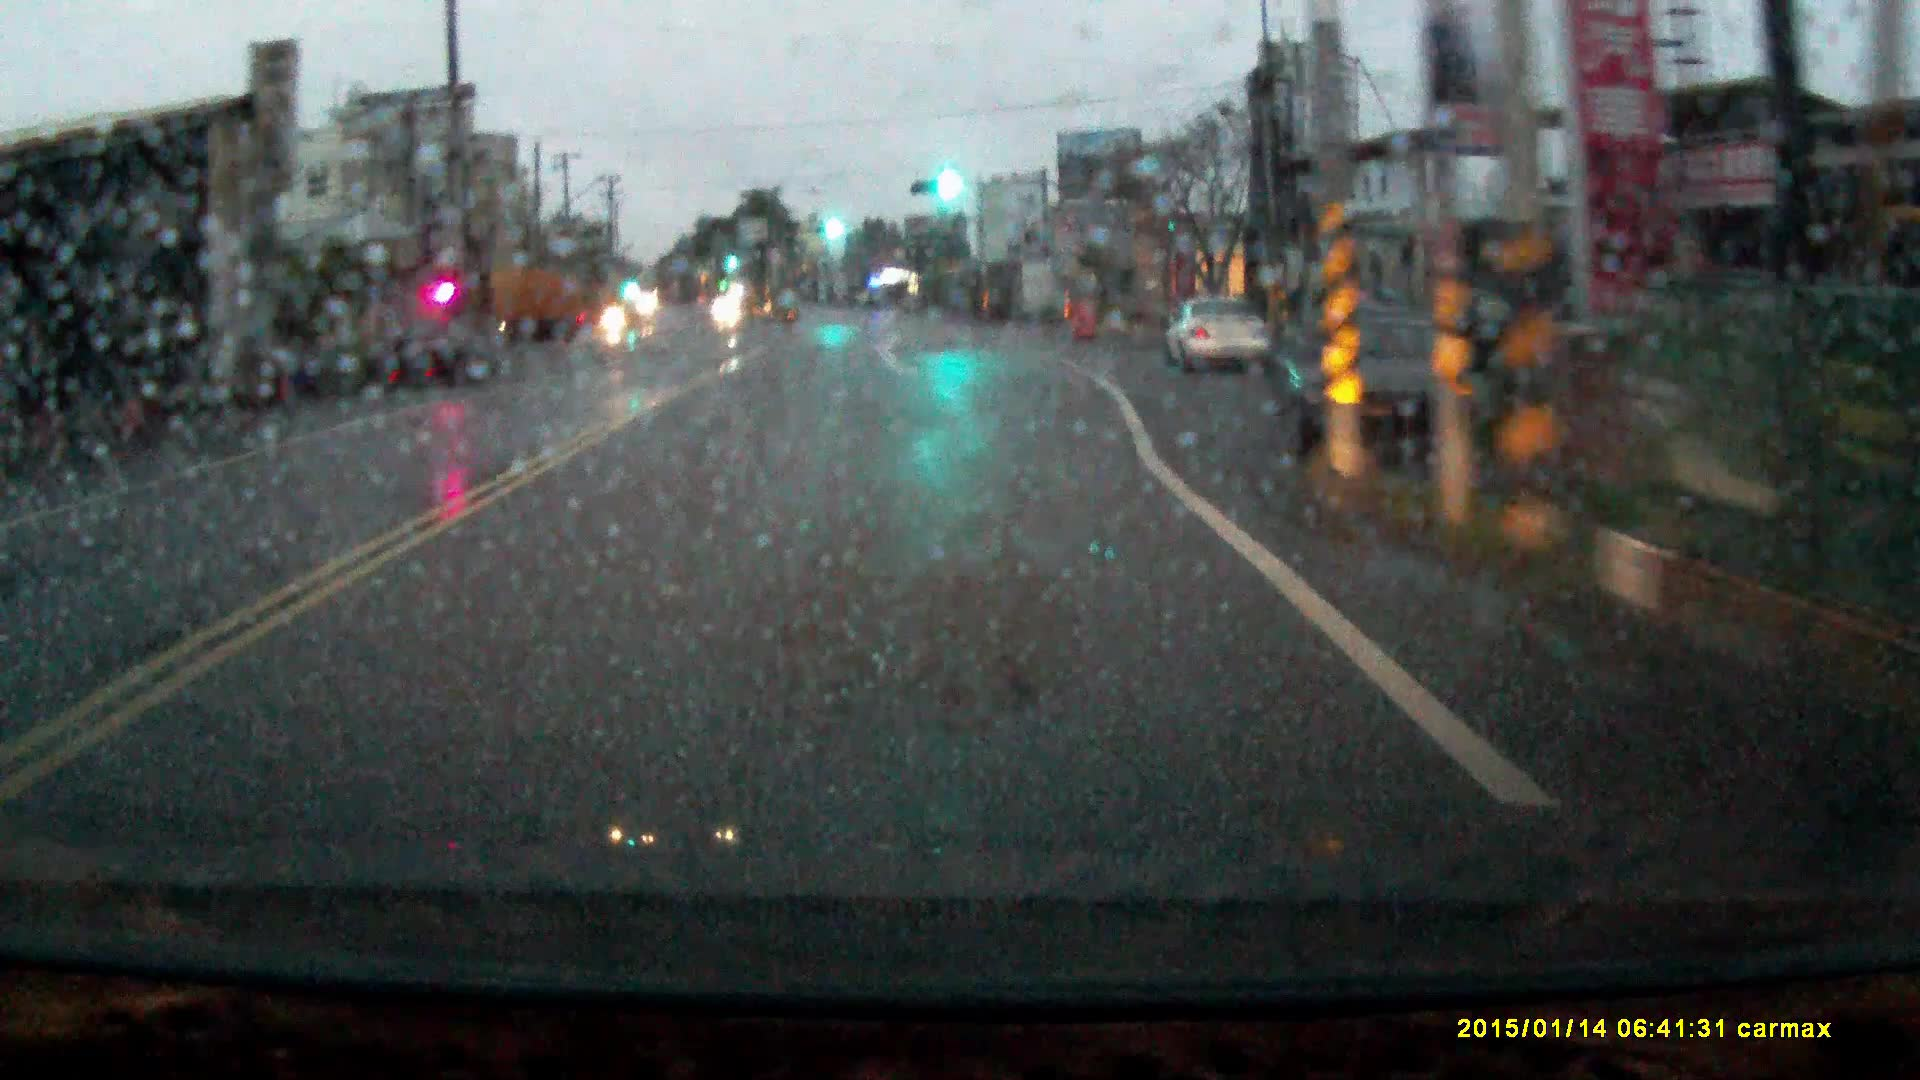rider: (598, 292, 630, 351)
vehicle: (1262, 307, 1481, 458), (1158, 288, 1272, 364), (489, 258, 589, 341), (377, 316, 484, 382), (714, 291, 742, 316)
